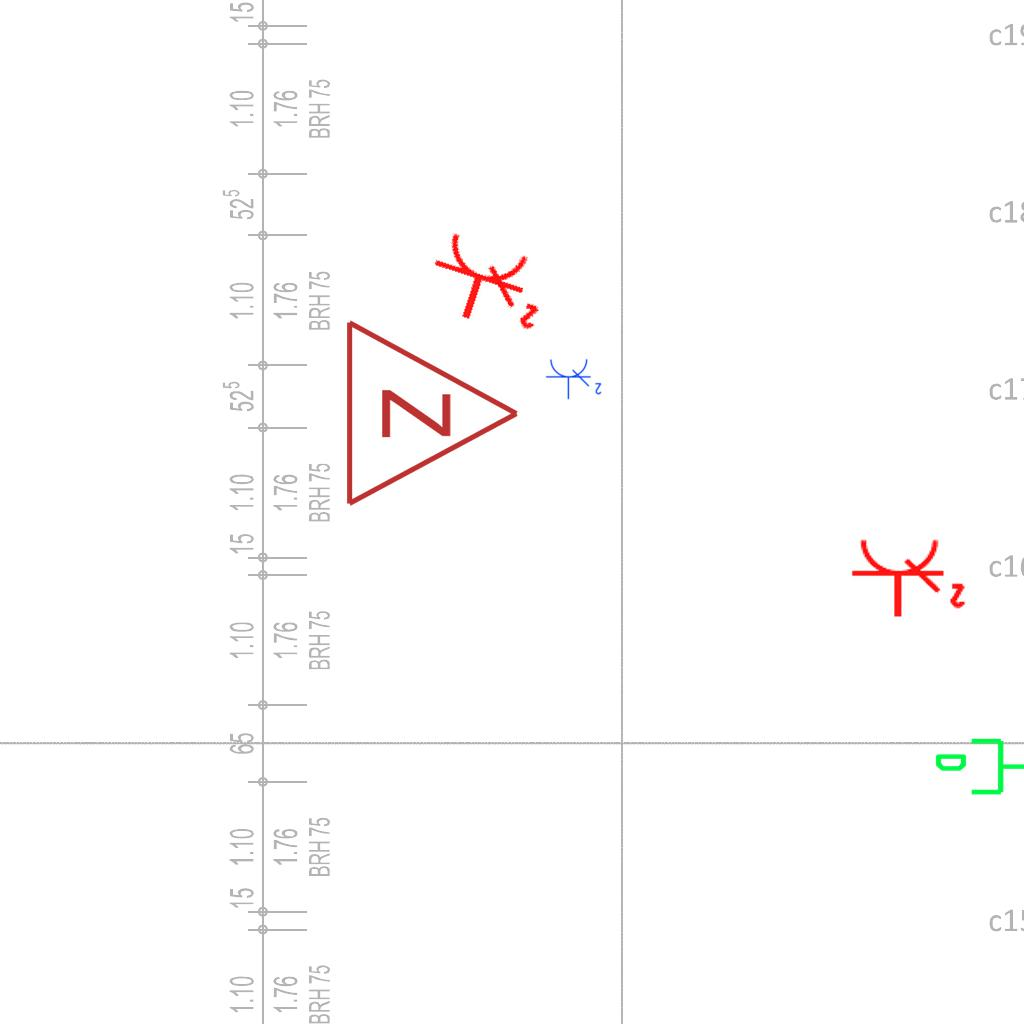Datenanschluss_einfach: (933, 734, 1024, 803)
Schukosteckdose_mehrfach: (415, 224, 558, 346), (847, 535, 968, 623), (545, 356, 605, 400)
Zimmersignalleuchte: (332, 313, 532, 509)
